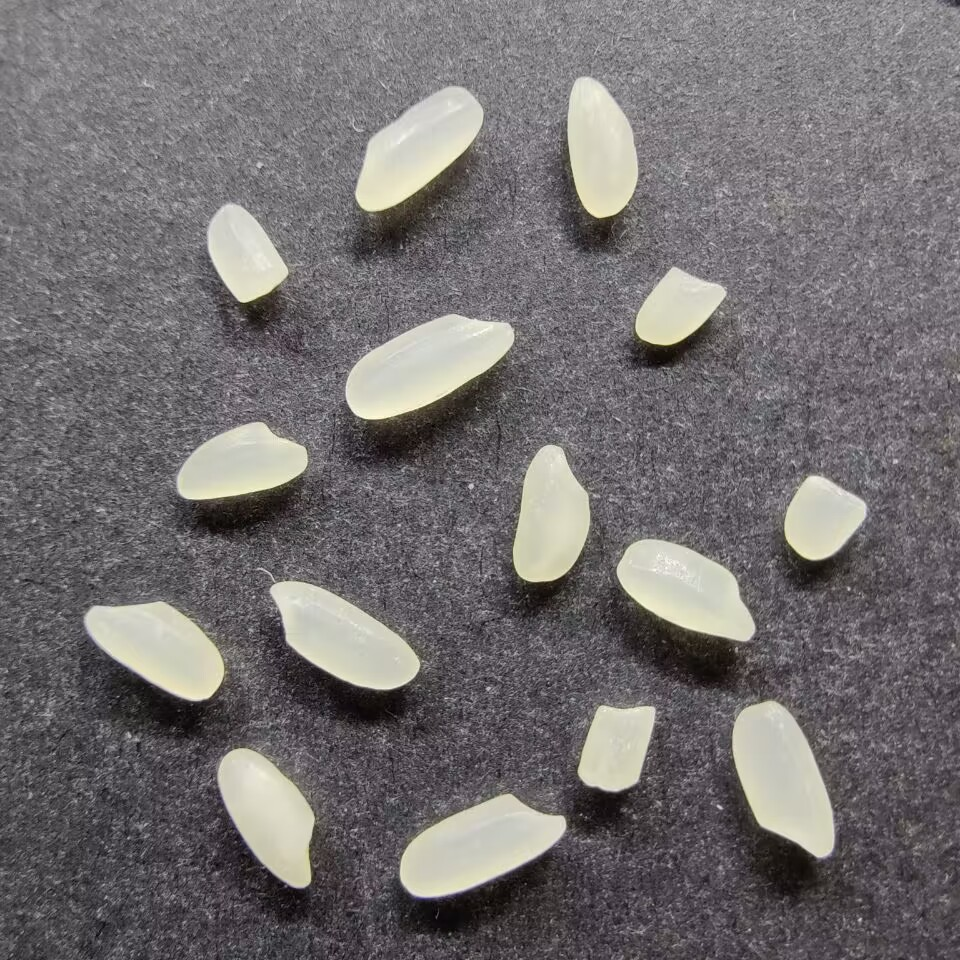broken: (204, 200, 289, 305), (631, 264, 729, 347), (781, 473, 869, 561), (574, 701, 657, 792)
rice: (344, 312, 517, 422), (395, 792, 568, 901), (729, 698, 839, 860), (352, 83, 485, 212), (268, 579, 420, 691), (615, 537, 756, 645), (81, 598, 226, 702), (214, 746, 319, 889), (173, 418, 310, 504), (509, 442, 592, 583), (564, 76, 639, 220)
